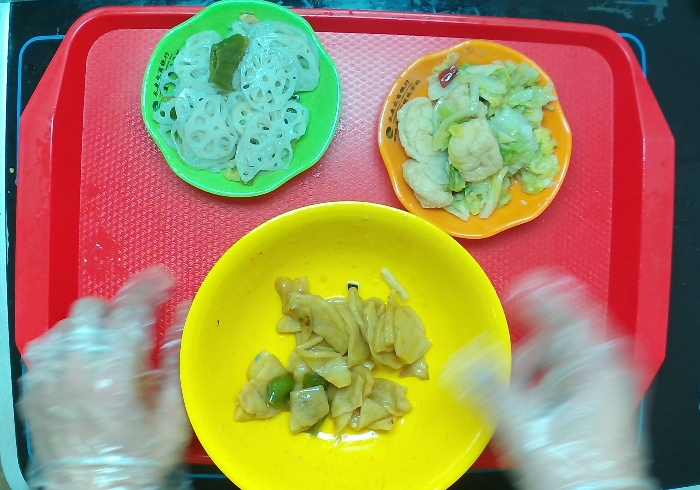YKMZ-Huang_Se_Tang_Wan: (178, 198, 513, 490)
YKMZ-Ju_Se_Ao_Bian_Wan: (377, 40, 572, 242)
YKMZ-Lv_Se_Ao_Bian_Wan: (141, 1, 342, 196)
